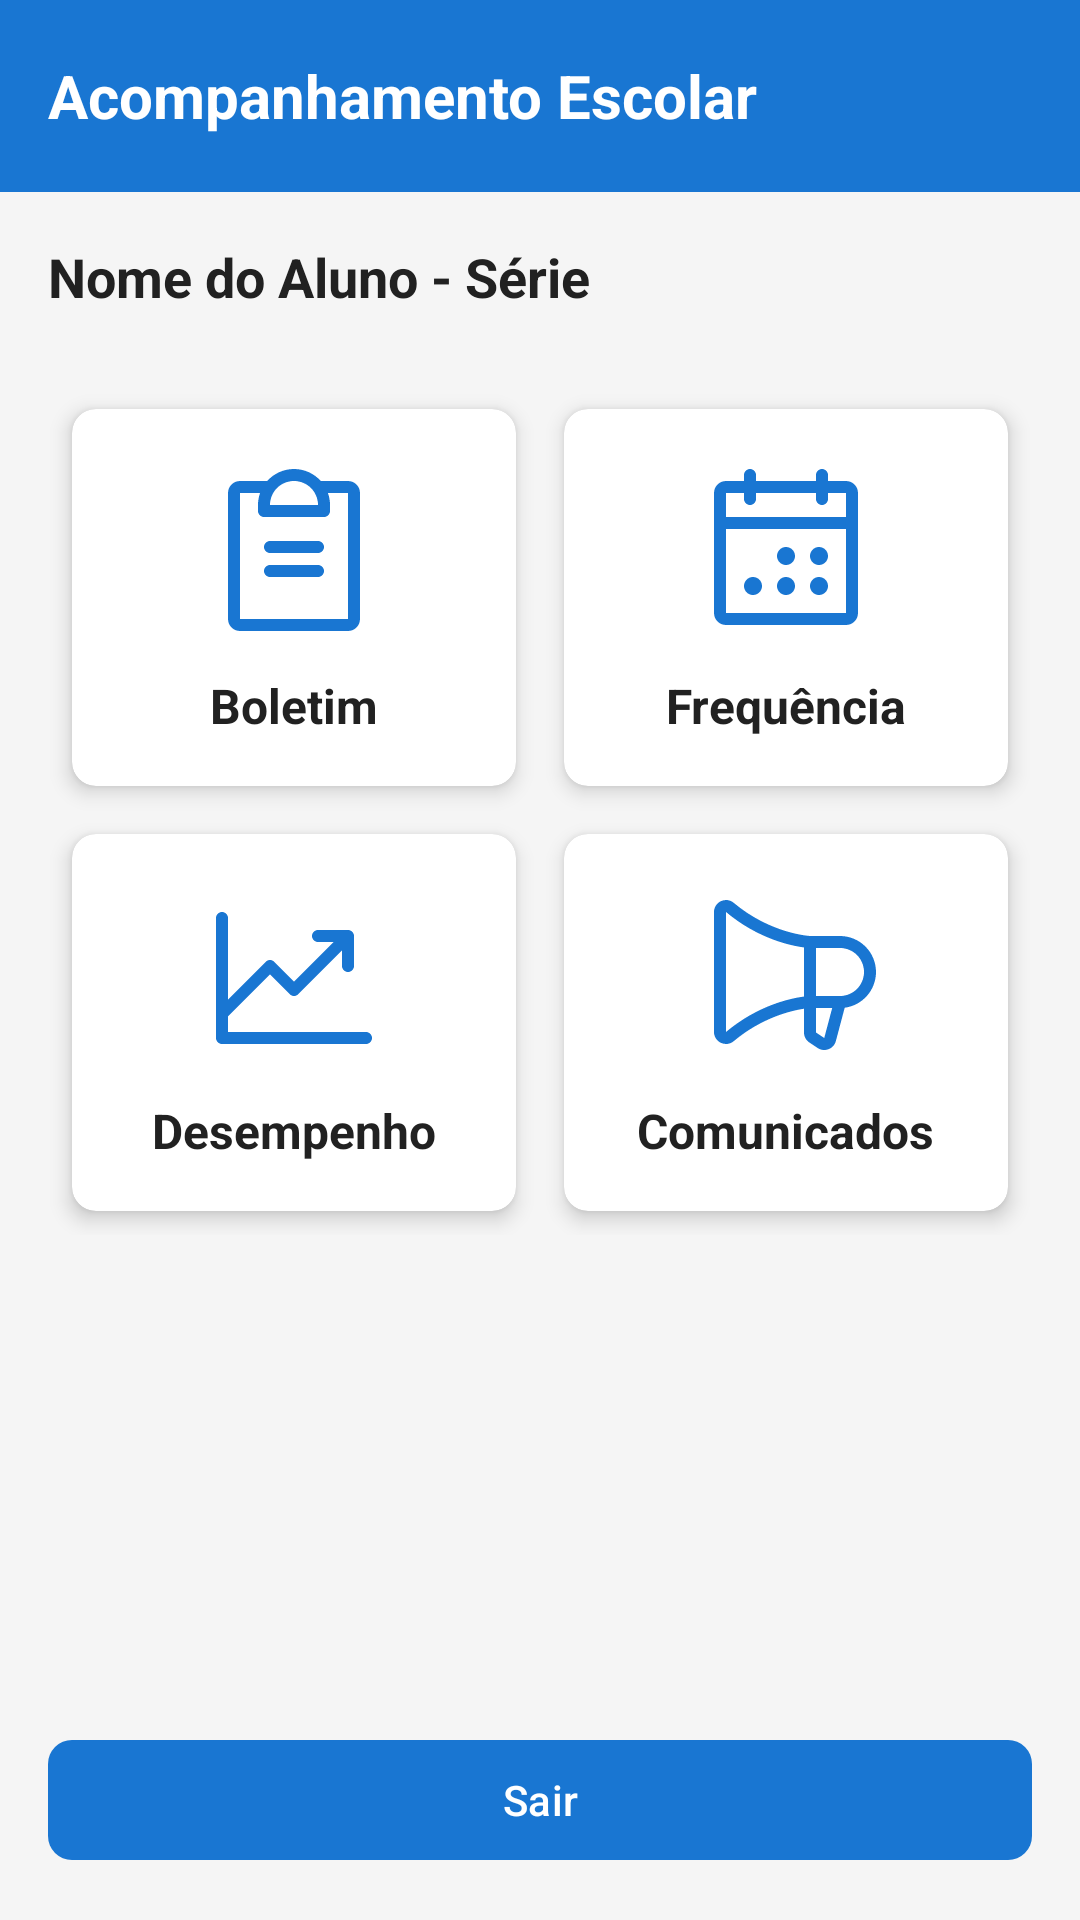

Point at icon controls on the screen. Image size 1080*1920, points as [x,y].
calendar: [786,547]
chartlineup: [294,978]
clipboardtext: [294,550]
megaphone: [795,975]
